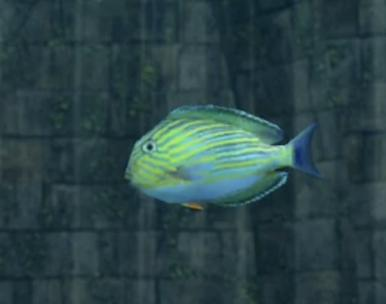Acanthuridae -Surgeonfishes-: (121, 105, 326, 214)
